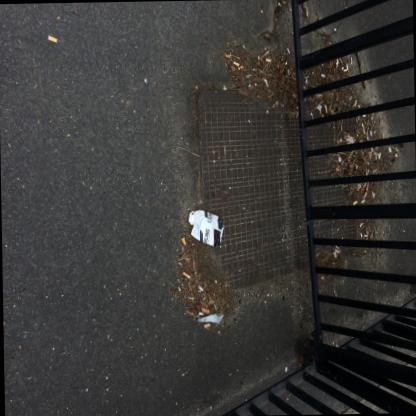Metal: (187, 210, 223, 247), (188, 210, 193, 217)
Paper: (46, 35, 55, 42), (181, 271, 189, 278), (179, 237, 184, 245), (231, 61, 238, 66), (203, 322, 208, 328), (197, 285, 202, 291), (264, 58, 270, 62), (323, 104, 326, 112), (237, 65, 241, 70), (351, 200, 356, 204), (333, 248, 337, 253), (285, 47, 288, 53), (361, 128, 364, 134), (387, 146, 390, 152), (362, 191, 365, 197), (358, 222, 361, 227), (358, 232, 361, 237), (353, 99, 355, 106), (373, 152, 375, 159), (304, 9, 306, 16), (349, 57, 351, 63), (342, 68, 346, 71), (319, 73, 323, 76), (377, 152, 379, 158), (371, 192, 373, 198), (176, 286, 179, 290), (360, 199, 363, 203), (394, 146, 396, 151), (393, 152, 395, 157), (304, 78, 306, 83), (327, 41, 330, 44), (334, 62, 336, 66), (362, 234, 366, 236), (381, 133, 382, 137)
Waste: (196, 312, 222, 324)
